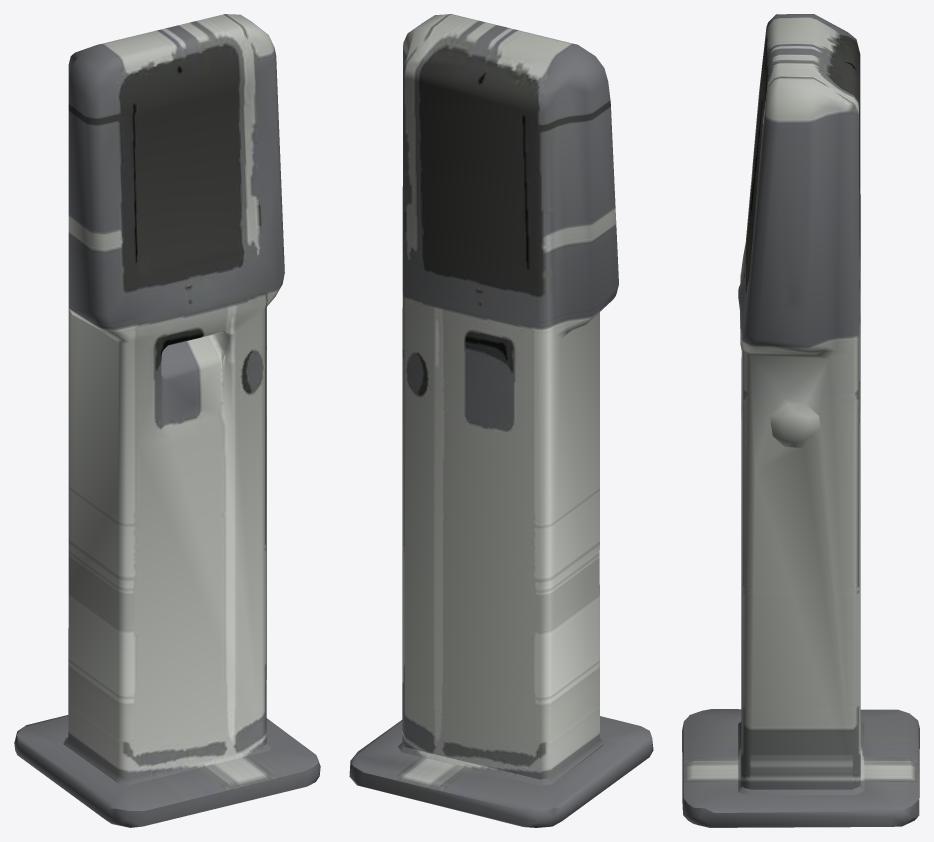
3 views of the same model, side by side, from view 1: azimuth 30°, elevation 25°; view 2: azimuth 150°, elevation 25°; view 3: azimuth 270°, elevation 25° (orthographic).
Visible parts, largest first — view 1: Decor_pay_station_b; view 2: Decor_pay_station_b; view 3: Decor_pay_station_b.
Part boxes in pixels (x1,y1,x2,y2): Decor_pay_station_b: (14,14,320,827); Decor_pay_station_b: (349,14,653,827); Decor_pay_station_b: (682,14,919,827).
Bounding box in the file's own units: 0.4543 × 1.5 × 0.4411.
1 material, 1 textured.
